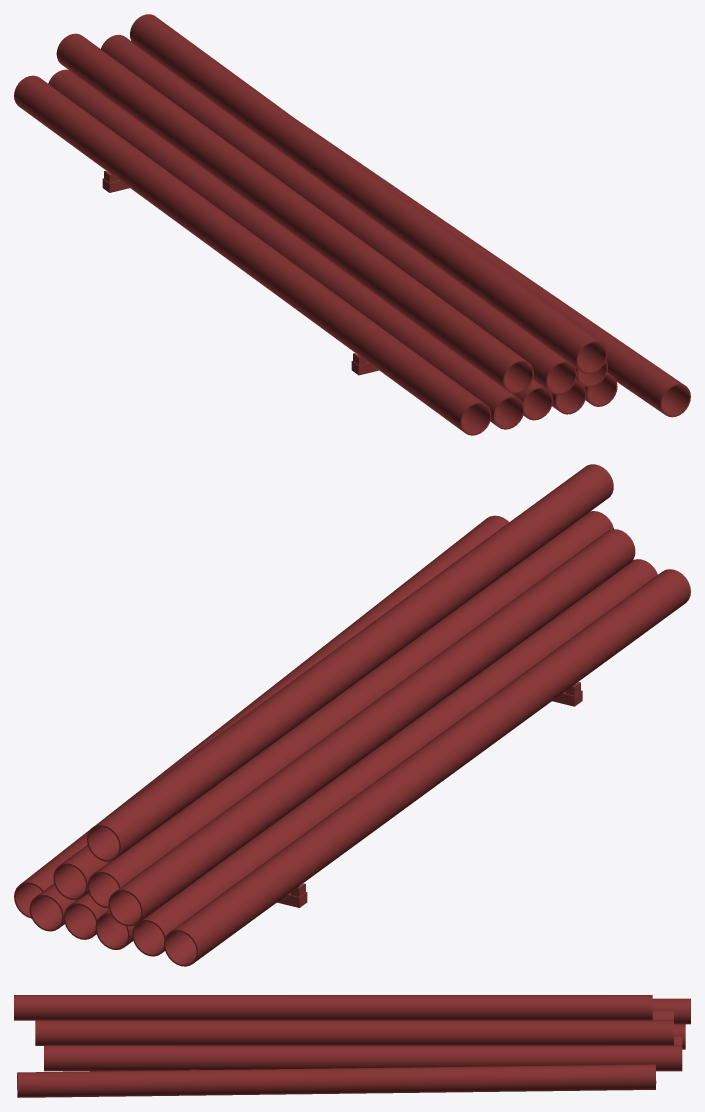
Rendered from SM_SteelTube01Pack03.fbx.
3 renders of one model, top to bottom at view 1: azimuth 30°, elevation 25°; view 2: azimuth 150°, elevation 25°; view 3: azimuth 270°, elevation 25°, orthographic. The views are drawn at different scales.
Parts seen in each view (by area): view 1: SteelTube01Pack03; view 2: SteelTube01Pack03; view 3: SteelTube01Pack03.
Part boxes in pixels (x1=…): SteelTube01Pack03: x1=14, y1=14, x2=690, y2=435; SteelTube01Pack03: x1=14, y1=464, x2=690, y2=966; SteelTube01Pack03: x1=14, y1=995, x2=690, y2=1097.
Bounding box in the file's own units: 82.18 × 36.37 × 318.
